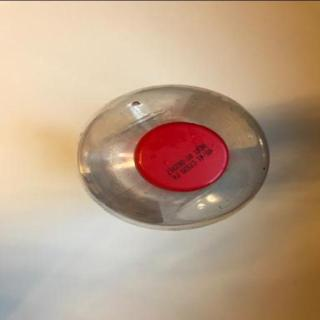Anorganik: (76, 80, 274, 234)
